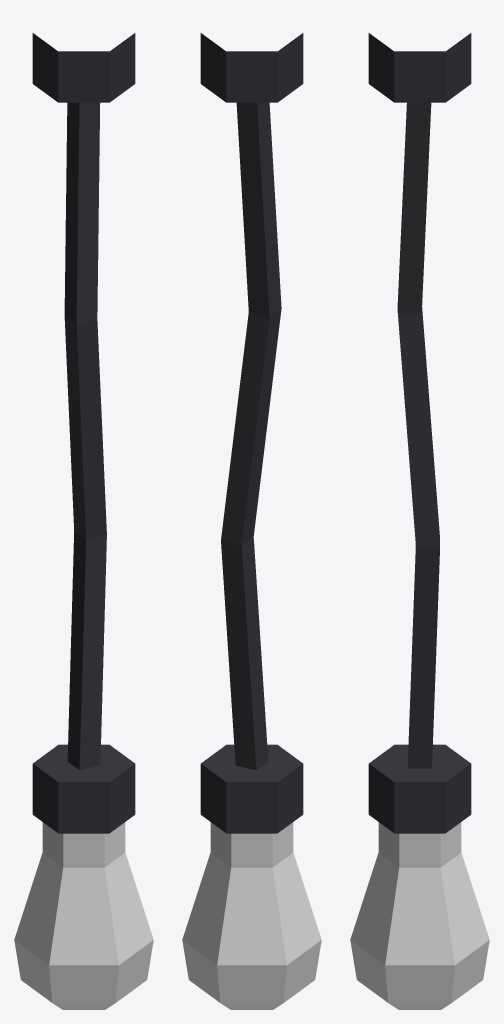
The model's file is SM_Light_A.gltf.
3 renders of one model, left to right at view 1: azimuth 30°, elevation 25°; view 2: azimuth 150°, elevation 25°; view 3: azimuth 270°, elevation 25°, orthographic.
Visible parts, largest first — view 1: SM_Light_A; view 2: SM_Light_A; view 3: SM_Light_A.
Part boxes in pixels (left/top/right/bottom): SM_Light_A: left=14, top=33, right=153, bottom=1009; SM_Light_A: left=182, top=33, right=321, bottom=1009; SM_Light_A: left=350, top=33, right=489, bottom=1009.
Bounding box in the file's own units: 0.094 × 0.8262 × 0.1086.
Materials: 2 (1 with a texture image).
